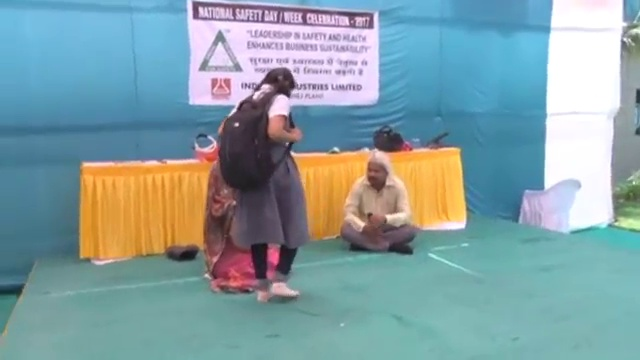helmet_off: (262, 65, 296, 99), (366, 153, 389, 188)
person: (216, 66, 300, 302), (192, 160, 282, 288), (336, 153, 419, 255)
